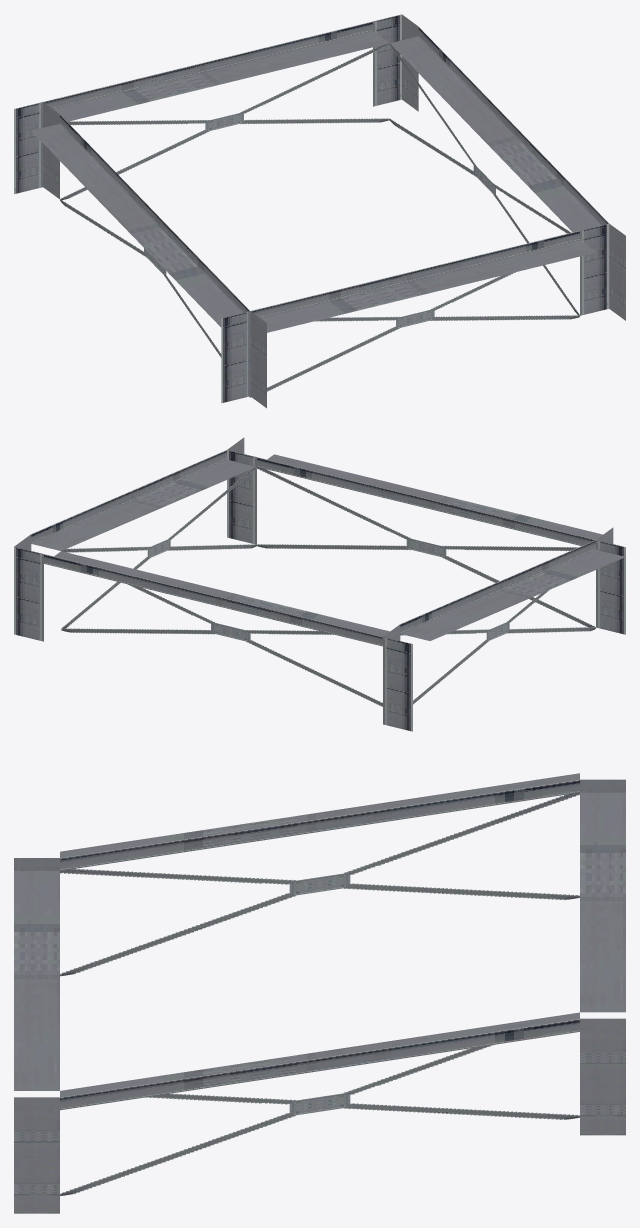
The model's file is stage-flor-p3-407.glb.
3 renders of one model, top to bottom at view 1: azimuth 30°, elevation 25°; view 2: azimuth 150°, elevation 25°; view 3: azimuth 270°, elevation 25°, orthographic. The views are drawn at different scales.
Bounding box in the file's own units: 2 × 0.7097 × 2.
2 materials, 2 textured.
